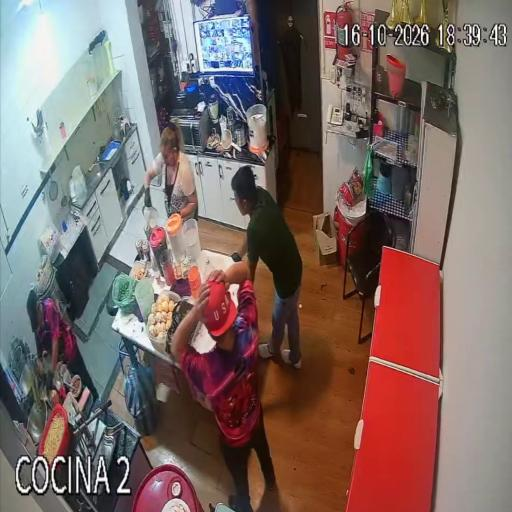Jarra1: (150, 227, 166, 275)
Jarra2: (165, 213, 185, 261)
Jarra3: (135, 278, 154, 321)
Jarra4: (182, 219, 201, 260)
JarraLicuadora: (143, 205, 158, 231)
Licuadora: (207, 93, 222, 135)
Licuadora2: (233, 122, 246, 147)
Microondas: (175, 112, 211, 152)
Persona1: (171, 261, 275, 512)
Persona2: (144, 122, 197, 219)
Persona3: (232, 167, 302, 367)
Persona5: (27, 292, 95, 391)
Taper: (129, 261, 147, 281)
Taper3: (146, 292, 181, 353)
Taper4: (166, 296, 193, 353)
